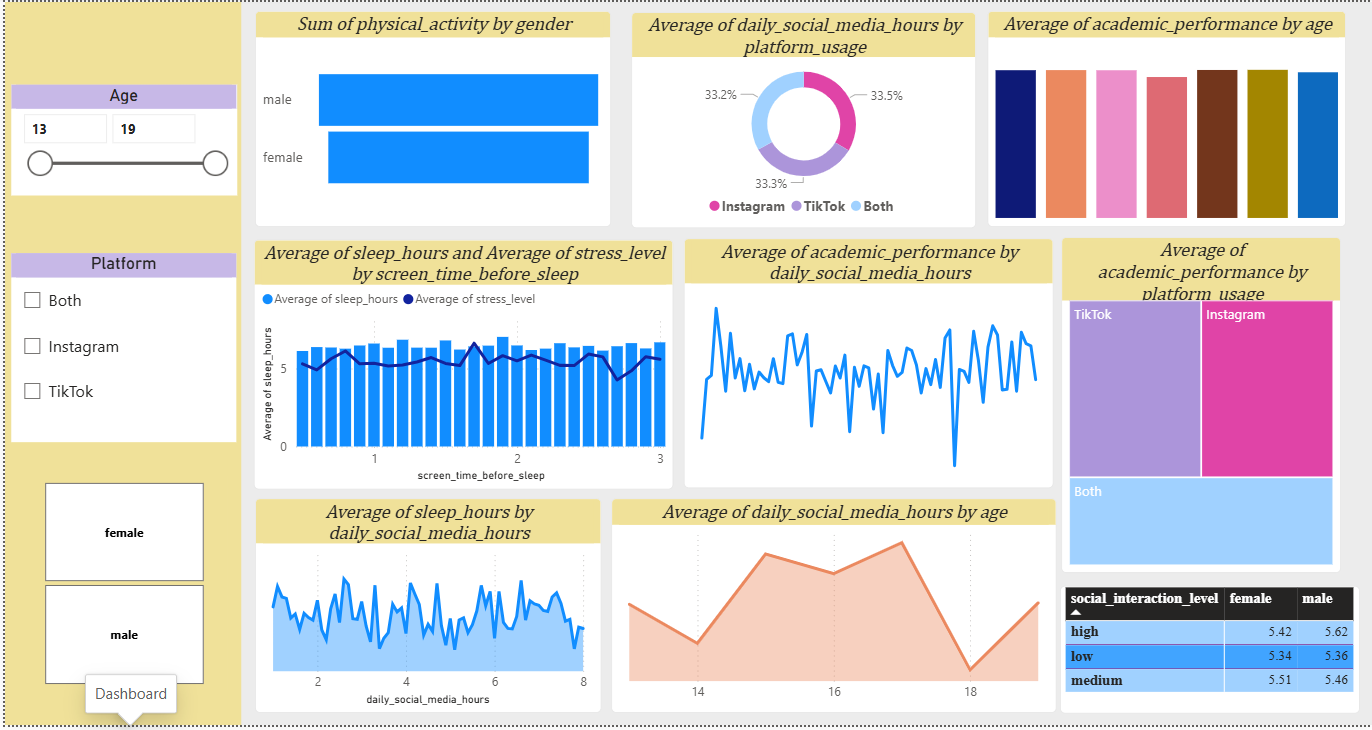

The page's visual inventory and layout, read from the dashboard file:
{"tool":"powerbi","page":{"name":"Dashboard","canvas":[1360,720],"ordinal":1},"visuals":[{"type":"lineChart","fields":{"Category":["socialmedia teen_analyze.age"],"Y":["Avg(socialmedia teen_analyze.daily_social_media_hours)"]},"box":[603.3,493.9,442.8,214],"z":0},{"type":"donutChart","fields":{"Category":["socialmedia teen_analyze.platform_usage"],"Y":["Avg(socialmedia teen_analyze.daily_social_media_hours)"]},"box":[623.2,10,343.3,215.2],"z":1000},{"type":"shape","box":[0,0,235.1,720.3],"z":2000},{"type":"funnel","fields":{"Category":["socialmedia teen_analyze.gender"],"Y":["Sum(socialmedia teen_analyze.physical_activity)"]},"box":[248.8,8.7,354.5,215.2],"z":3000},{"type":"pivotTable","title":"Social Interaction wise Avg Stress Level","fields":{"Rows":["socialmedia teen_analyze.social_interaction_level"],"Columns":["socialmedia teen_analyze.gender"],"Values":["Avg(socialmedia teen_analyze.stress_level)"]},"box":[1049.9,580.9,298.6,126.9],"z":4000},{"type":"lineChart","fields":{"Category":["socialmedia teen_analyze.daily_social_media_hours"],"Y":["Avg(socialmedia teen_analyze.sleep_hours)"]},"box":[248.8,493.9,344.6,214],"z":5000},{"type":"lineStackedColumnComboChart","fields":{"Category":["socialmedia teen_analyze.screen_time_before_sleep"],"Y":["Avg(socialmedia teen_analyze.sleep_hours)"],"Y2":["Avg(socialmedia teen_analyze.stress_level)"]},"box":[247.5,236.4,418,248.8],"z":6000},{"type":"columnChart","fields":{"Category":["socialmedia teen_analyze.age"],"Y":["Avg(socialmedia teen_analyze.academic_performance)"]},"box":[977.8,8.7,357,215.2],"z":7000},{"type":"lineChart","fields":{"Category":["socialmedia teen_analyze.daily_social_media_hours"],"Y":["Avg(socialmedia teen_analyze.academic_performance)"]},"box":[675.5,235.1,368.2,248.8],"z":8000},{"type":"treemap","fields":{"Group":["socialmedia teen_analyze.platform_usage"],"Values":["Avg(socialmedia teen_analyze.academic_performance)"]},"box":[1051.1,233.9,278.6,334.6],"z":9000},{"type":"slicer","title":"Age","fields":{"Values":["socialmedia teen_analyze.age"]},"box":[6.2,82.3,223.9,109.5],"z":10000},{"type":"slicer","fields":{"Values":["socialmedia teen_analyze.gender"]},"box":[13.7,471.7,207.7,214],"z":11000},{"type":"slicer","title":"Platform","fields":{"Values":["socialmedia teen_analyze.platform_usage"]},"box":[6.2,250.3,223.9,187.8],"z":12000}]}

Visuals, with their boxes in screenshot pixels (x1, y1, x2, y2), scaled from the page's 1360x720 canvas onto the 1372x730 screenshot:
lineChart - socialmedia teen_analyze.age x Avg(socialmedia teen_analyze.daily_social_media_hours): <box>609,501,1055,718</box>
donutChart - socialmedia teen_analyze.platform_usage x Avg(socialmedia teen_analyze.daily_social_media_hours): <box>629,10,975,228</box>
shape: <box>0,0,237,729</box>
funnel - socialmedia teen_analyze.gender x Sum(socialmedia teen_analyze.physical_activity): <box>251,9,609,227</box>
"Social Interaction wise Avg Stress Level" pivotTable: <box>1059,589,1360,718</box>
lineChart - socialmedia teen_analyze.daily_social_media_hours x Avg(socialmedia teen_analyze.sleep_hours): <box>251,501,599,718</box>
lineStackedColumnComboChart - socialmedia teen_analyze.screen_time_before_sleep x Avg(socialmedia teen_analyze.sleep_hours): <box>250,240,671,492</box>
columnChart - socialmedia teen_analyze.age x Avg(socialmedia teen_analyze.academic_performance): <box>986,9,1347,227</box>
lineChart - socialmedia teen_analyze.daily_social_media_hours x Avg(socialmedia teen_analyze.academic_performance): <box>681,238,1053,491</box>
treemap - socialmedia teen_analyze.platform_usage x Avg(socialmedia teen_analyze.academic_performance): <box>1060,237,1341,576</box>
"Age" slicer: <box>6,83,232,194</box>
slicer - socialmedia teen_analyze.gender: <box>14,478,223,695</box>
"Platform" slicer: <box>6,254,232,444</box>
